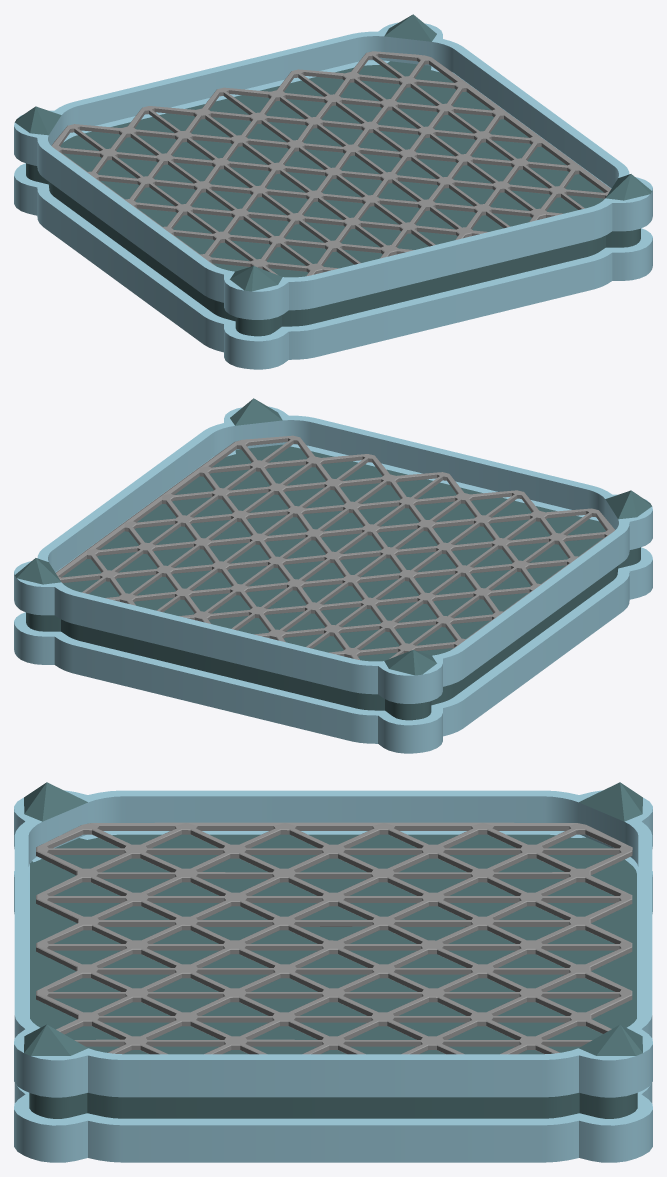
The model's file is Platform.fbx.
3 renders of one model, top to bottom at view 1: azimuth 30°, elevation 25°; view 2: azimuth 150°, elevation 25°; view 3: azimuth 270°, elevation 25°, orthographic. The views are drawn at different scales.
Parts seen in each view (by area): view 1: Plane; view 2: Plane; view 3: Plane.
Part boxes in pixels (x1=…): Plane: x1=14, y1=14, x2=652, y2=369; Plane: x1=14, y1=398, x2=652, y2=753; Plane: x1=14, y1=782, x2=652, y2=1162.
Size of the model in its own units: 401 by 86.16 by 401.
